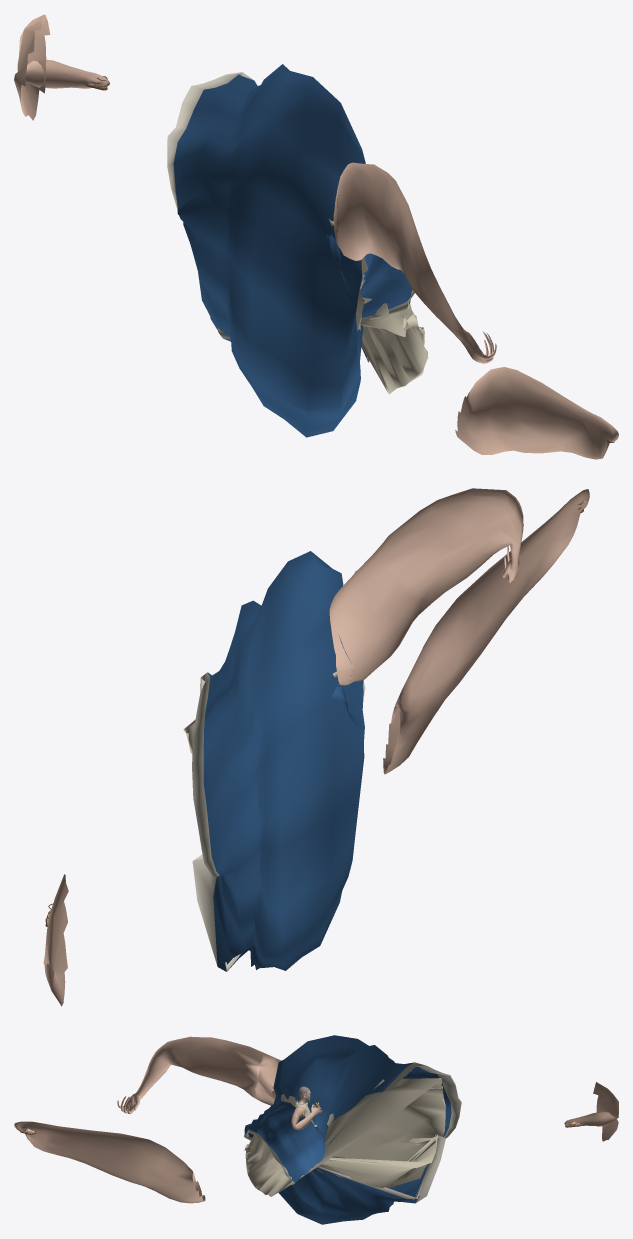
The model's file is philosopher.glb.
The picture shows the model from 3 angles, top to bottom: view 1: azimuth 30°, elevation 25°; view 2: azimuth 150°, elevation 25°; view 3: azimuth 270°, elevation 25°; orthographic projection. The views are drawn at different scales.
Parts seen in each view (by area): view 1: philosopher_2, philosopher_0; view 2: philosopher_2, philosopher_0; view 3: philosopher_2, philosopher_0.
Part boxes in pixels (x1,y1,x2,y2): philosopher_2: [86, 64, 614, 442]; philosopher_0: [14, 14, 618, 459]; philosopher_2: [45, 500, 583, 971]; philosopher_0: [43, 488, 589, 1006]; philosopher_2: [20, 1035, 581, 1224]; philosopher_0: [14, 1036, 618, 1203].
Size of the model in its own units: 0.5595 by 1.72 by 4.85.
